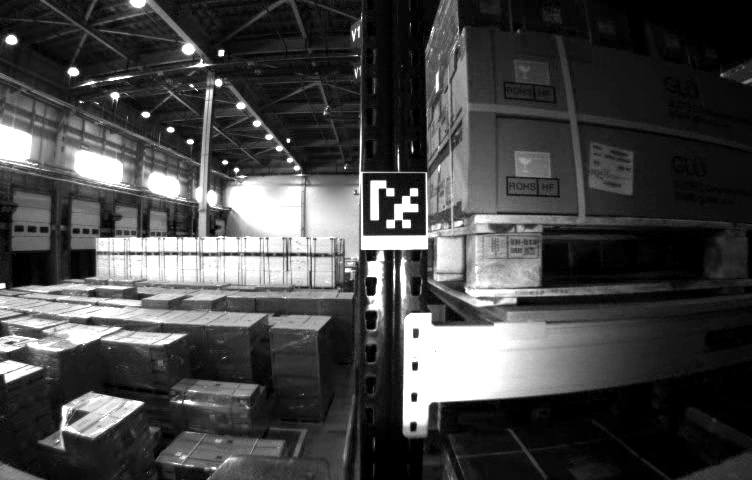True Barcode: (584, 140, 636, 200)
